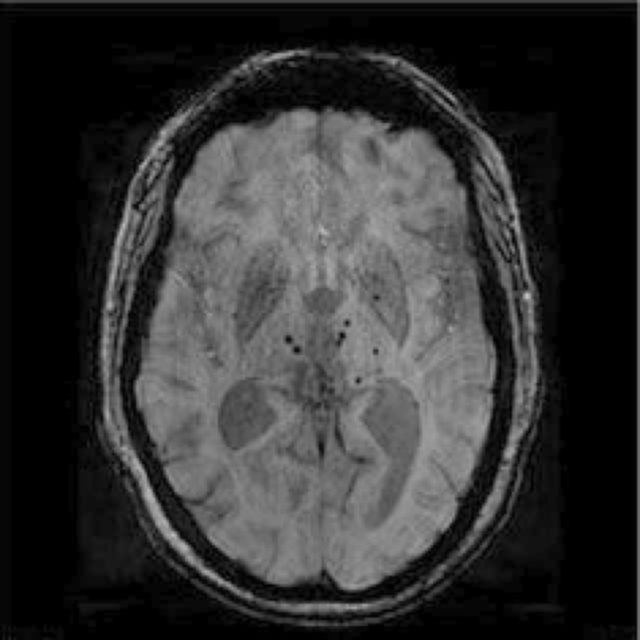glioma tumor: (188, 106, 463, 562)
